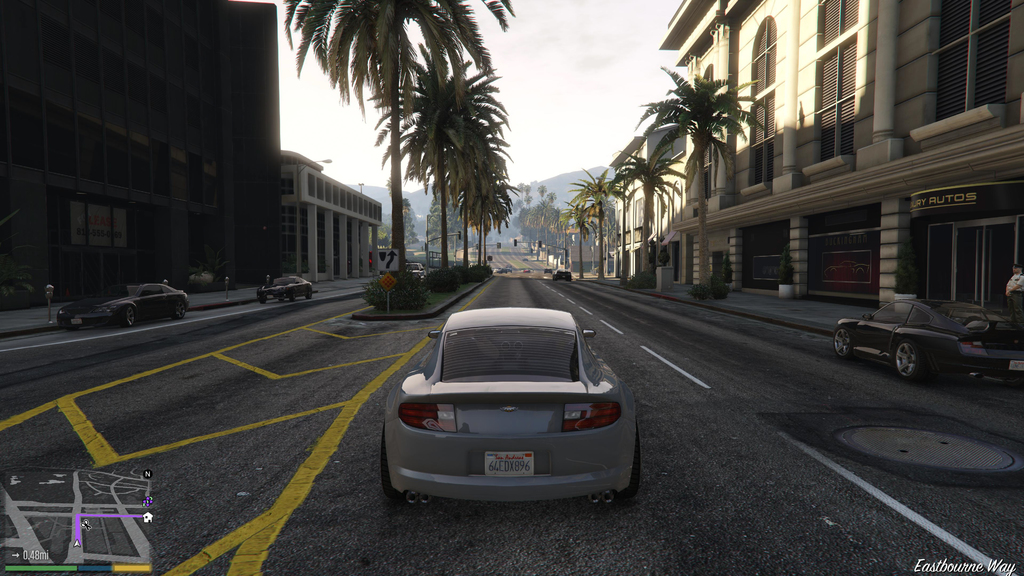Car: (383, 311, 643, 495), (830, 291, 1023, 385), (55, 285, 190, 327), (252, 276, 313, 304)
